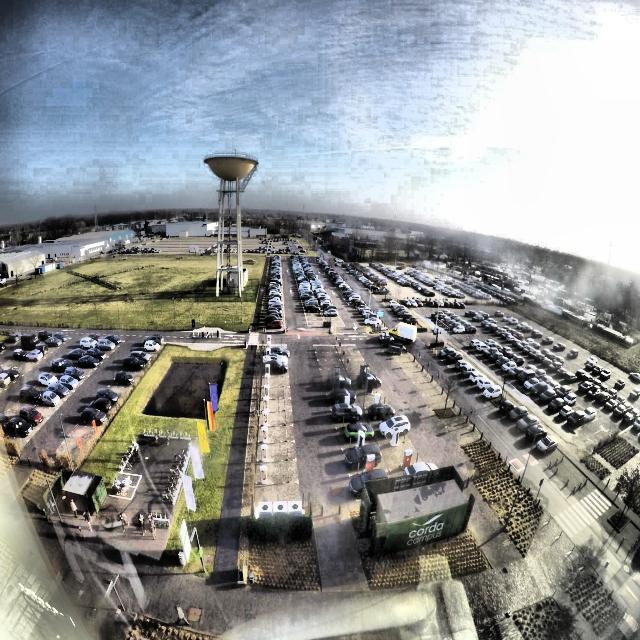cabinet: (259, 501, 301, 512)
car: (262, 360, 288, 373), (265, 344, 291, 356)
parking: (257, 460, 297, 482), (256, 483, 298, 501), (258, 442, 296, 459), (258, 424, 294, 441), (259, 409, 293, 423), (259, 396, 291, 408), (262, 364, 288, 376), (261, 376, 288, 386), (264, 352, 287, 363), (260, 386, 289, 394), (264, 344, 287, 352)
